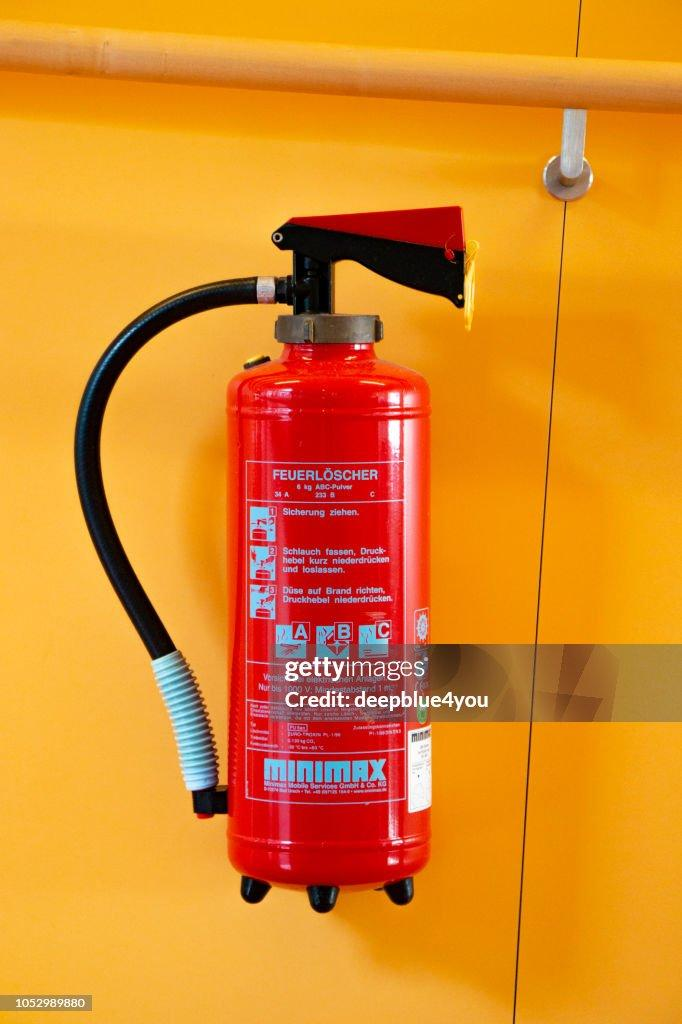wall-mounted: (70, 159, 529, 923)
